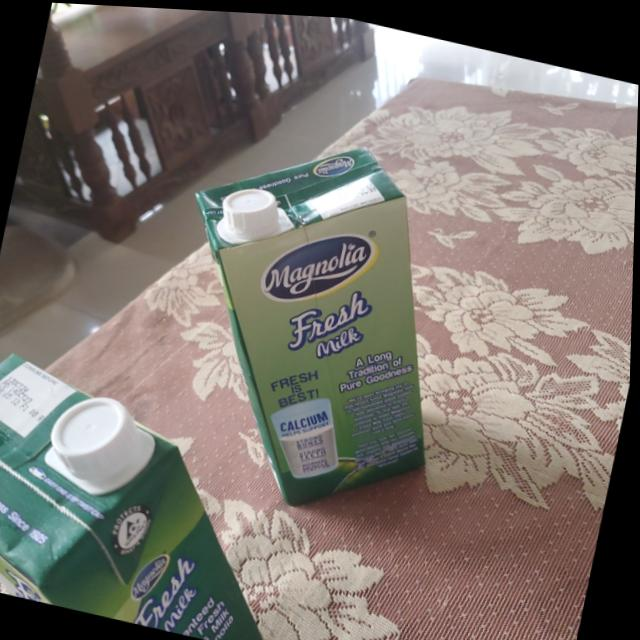milk: (147, 105, 493, 529), (0, 345, 327, 640)
